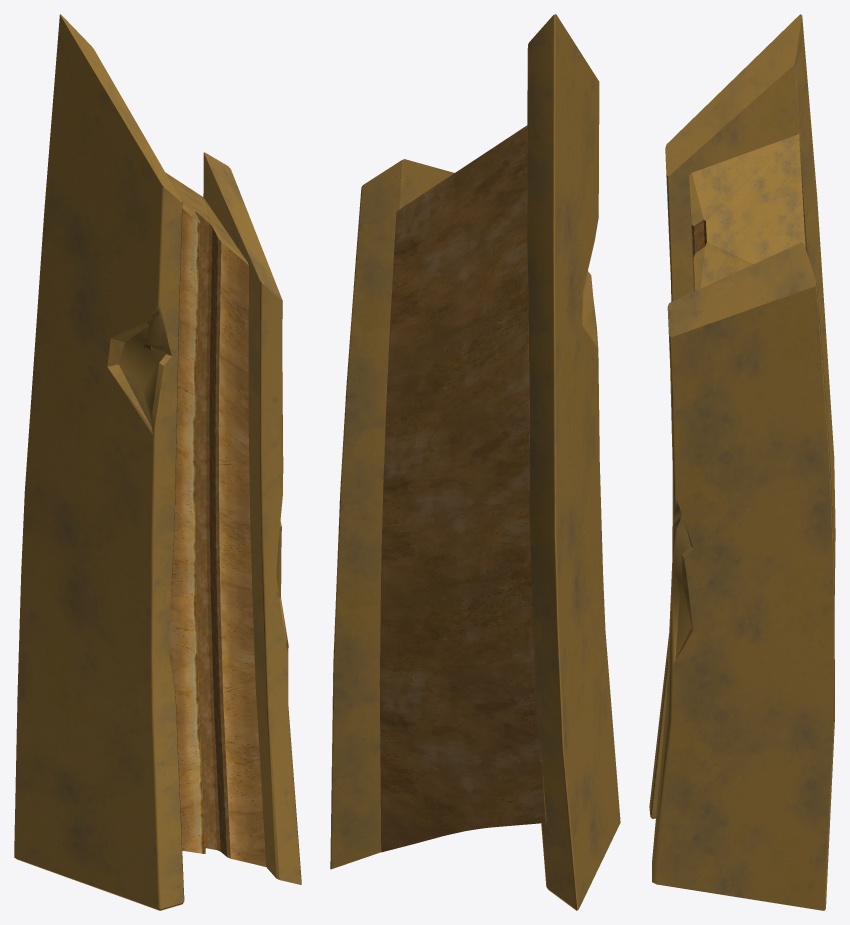
3 renders of one model, left to right at view 1: azimuth 30°, elevation 25°; view 2: azimuth 150°, elevation 25°; view 3: azimuth 270°, elevation 25°, orthographic. The views are drawn at different scales.
Visible parts, largest first — view 1: SM_KuldrasTower_DMG_03_LOD0; view 2: SM_KuldrasTower_DMG_03_LOD0; view 3: SM_KuldrasTower_DMG_03_LOD0.
Part boxes in pixels (<box>): SM_KuldrasTower_DMG_03_LOD0: <box>14,14,301,910</box>; SM_KuldrasTower_DMG_03_LOD0: <box>330,14,620,910</box>; SM_KuldrasTower_DMG_03_LOD0: <box>649,14,835,910</box>.
Size of the model in its own units: 11.19 by 38.76 by 8.13.
Materials: 2 (2 with a texture image).
